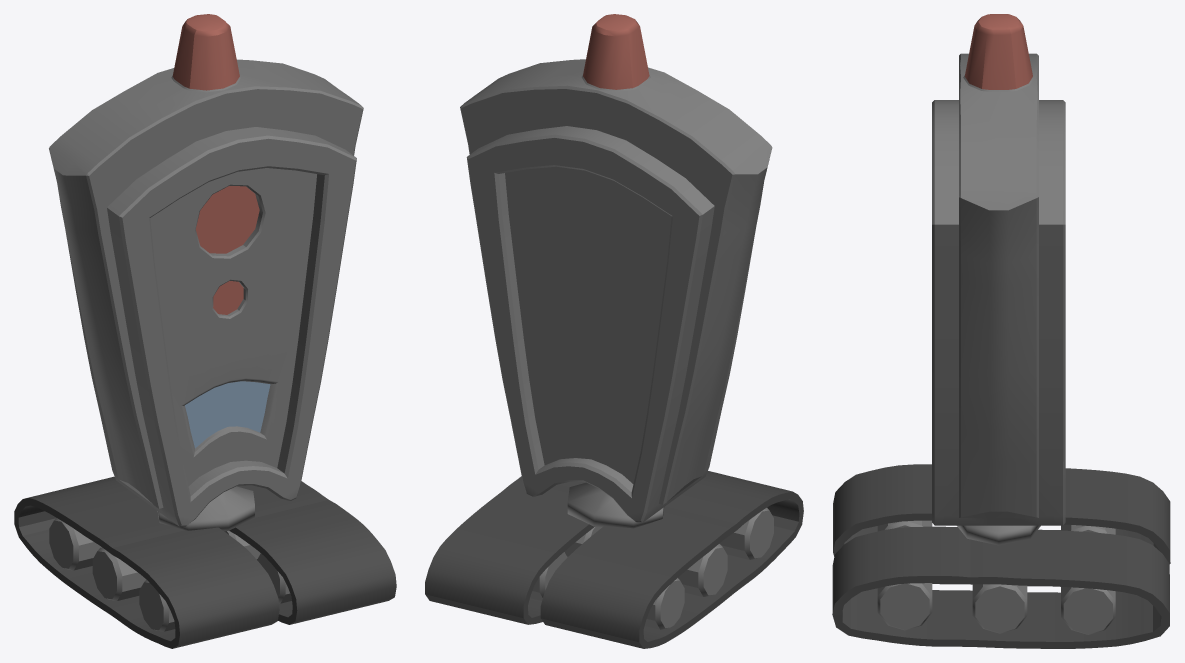
Rendered from robot.fbx.
3 renders of one model, left to right at view 1: azimuth 30°, elevation 25°; view 2: azimuth 150°, elevation 25°; view 3: azimuth 270°, elevation 25°, orthographic. The views are drawn at different scales.
Visible parts, largest first — view 1: robo_proto_1:pCube1, robo_proto_1:pCube3, robo_proto_1:pCube4, robo_proto_1:pCylinder1, robo_proto_1:pCylinder3, robo_proto_1:pCylinder4, robo_proto_1:pCylinder2, robo_proto_1:pCylinder5; view 2: robo_proto_1:pCube1, robo_proto_1:pCube3, robo_proto_1:pCube4, robo_proto_1:pCylinder1, robo_proto_1:pCylinder2, robo_proto_1:pCylinder3, robo_proto_1:pCylinder4, robo_proto_1:pCylinder7; view 3: robo_proto_1:pCube1, robo_proto_1:pCube4, robo_proto_1:pCube3, robo_proto_1:pCylinder6, robo_proto_1:pCylinder5, robo_proto_1:pCylinder7, robo_proto_1:pCylinder1.
Boxes of the visible parts, box(x1,y1,x2,y2) form: robo_proto_1:pCube1: box(49, 14, 363, 526); robo_proto_1:pCube3: box(14, 476, 279, 648); robo_proto_1:pCube4: box(229, 481, 396, 624); robo_proto_1:pCylinder1: box(157, 486, 254, 531); robo_proto_1:pCylinder3: box(92, 547, 146, 600); robo_proto_1:pCylinder4: box(49, 518, 101, 570); robo_proto_1:pCylinder2: box(139, 579, 175, 631); robo_proto_1:pCylinder5: box(257, 553, 291, 603); robo_proto_1:pCube1: box(460, 14, 772, 522); robo_proto_1:pCube3: box(540, 471, 803, 648); robo_proto_1:pCube4: box(425, 476, 594, 624); robo_proto_1:pCylinder1: box(567, 482, 664, 528); robo_proto_1:pCylinder2: box(719, 508, 773, 559); robo_proto_1:pCylinder3: box(678, 544, 727, 596); robo_proto_1:pCylinder4: box(644, 578, 684, 629); robo_proto_1:pCylinder7: box(530, 552, 567, 600); robo_proto_1:pCube1: box(932, 14, 1065, 525); robo_proto_1:pCube4: box(832, 526, 1169, 648); robo_proto_1:pCube3: box(833, 464, 1170, 586); robo_proto_1:pCylinder6: box(972, 584, 1027, 633); robo_proto_1:pCylinder5: box(877, 583, 932, 630); robo_proto_1:pCylinder7: box(1061, 587, 1115, 634); robo_proto_1:pCylinder1: box(957, 525, 1040, 545).
Bounding box in the file's own units: 111 × 204 × 108.
